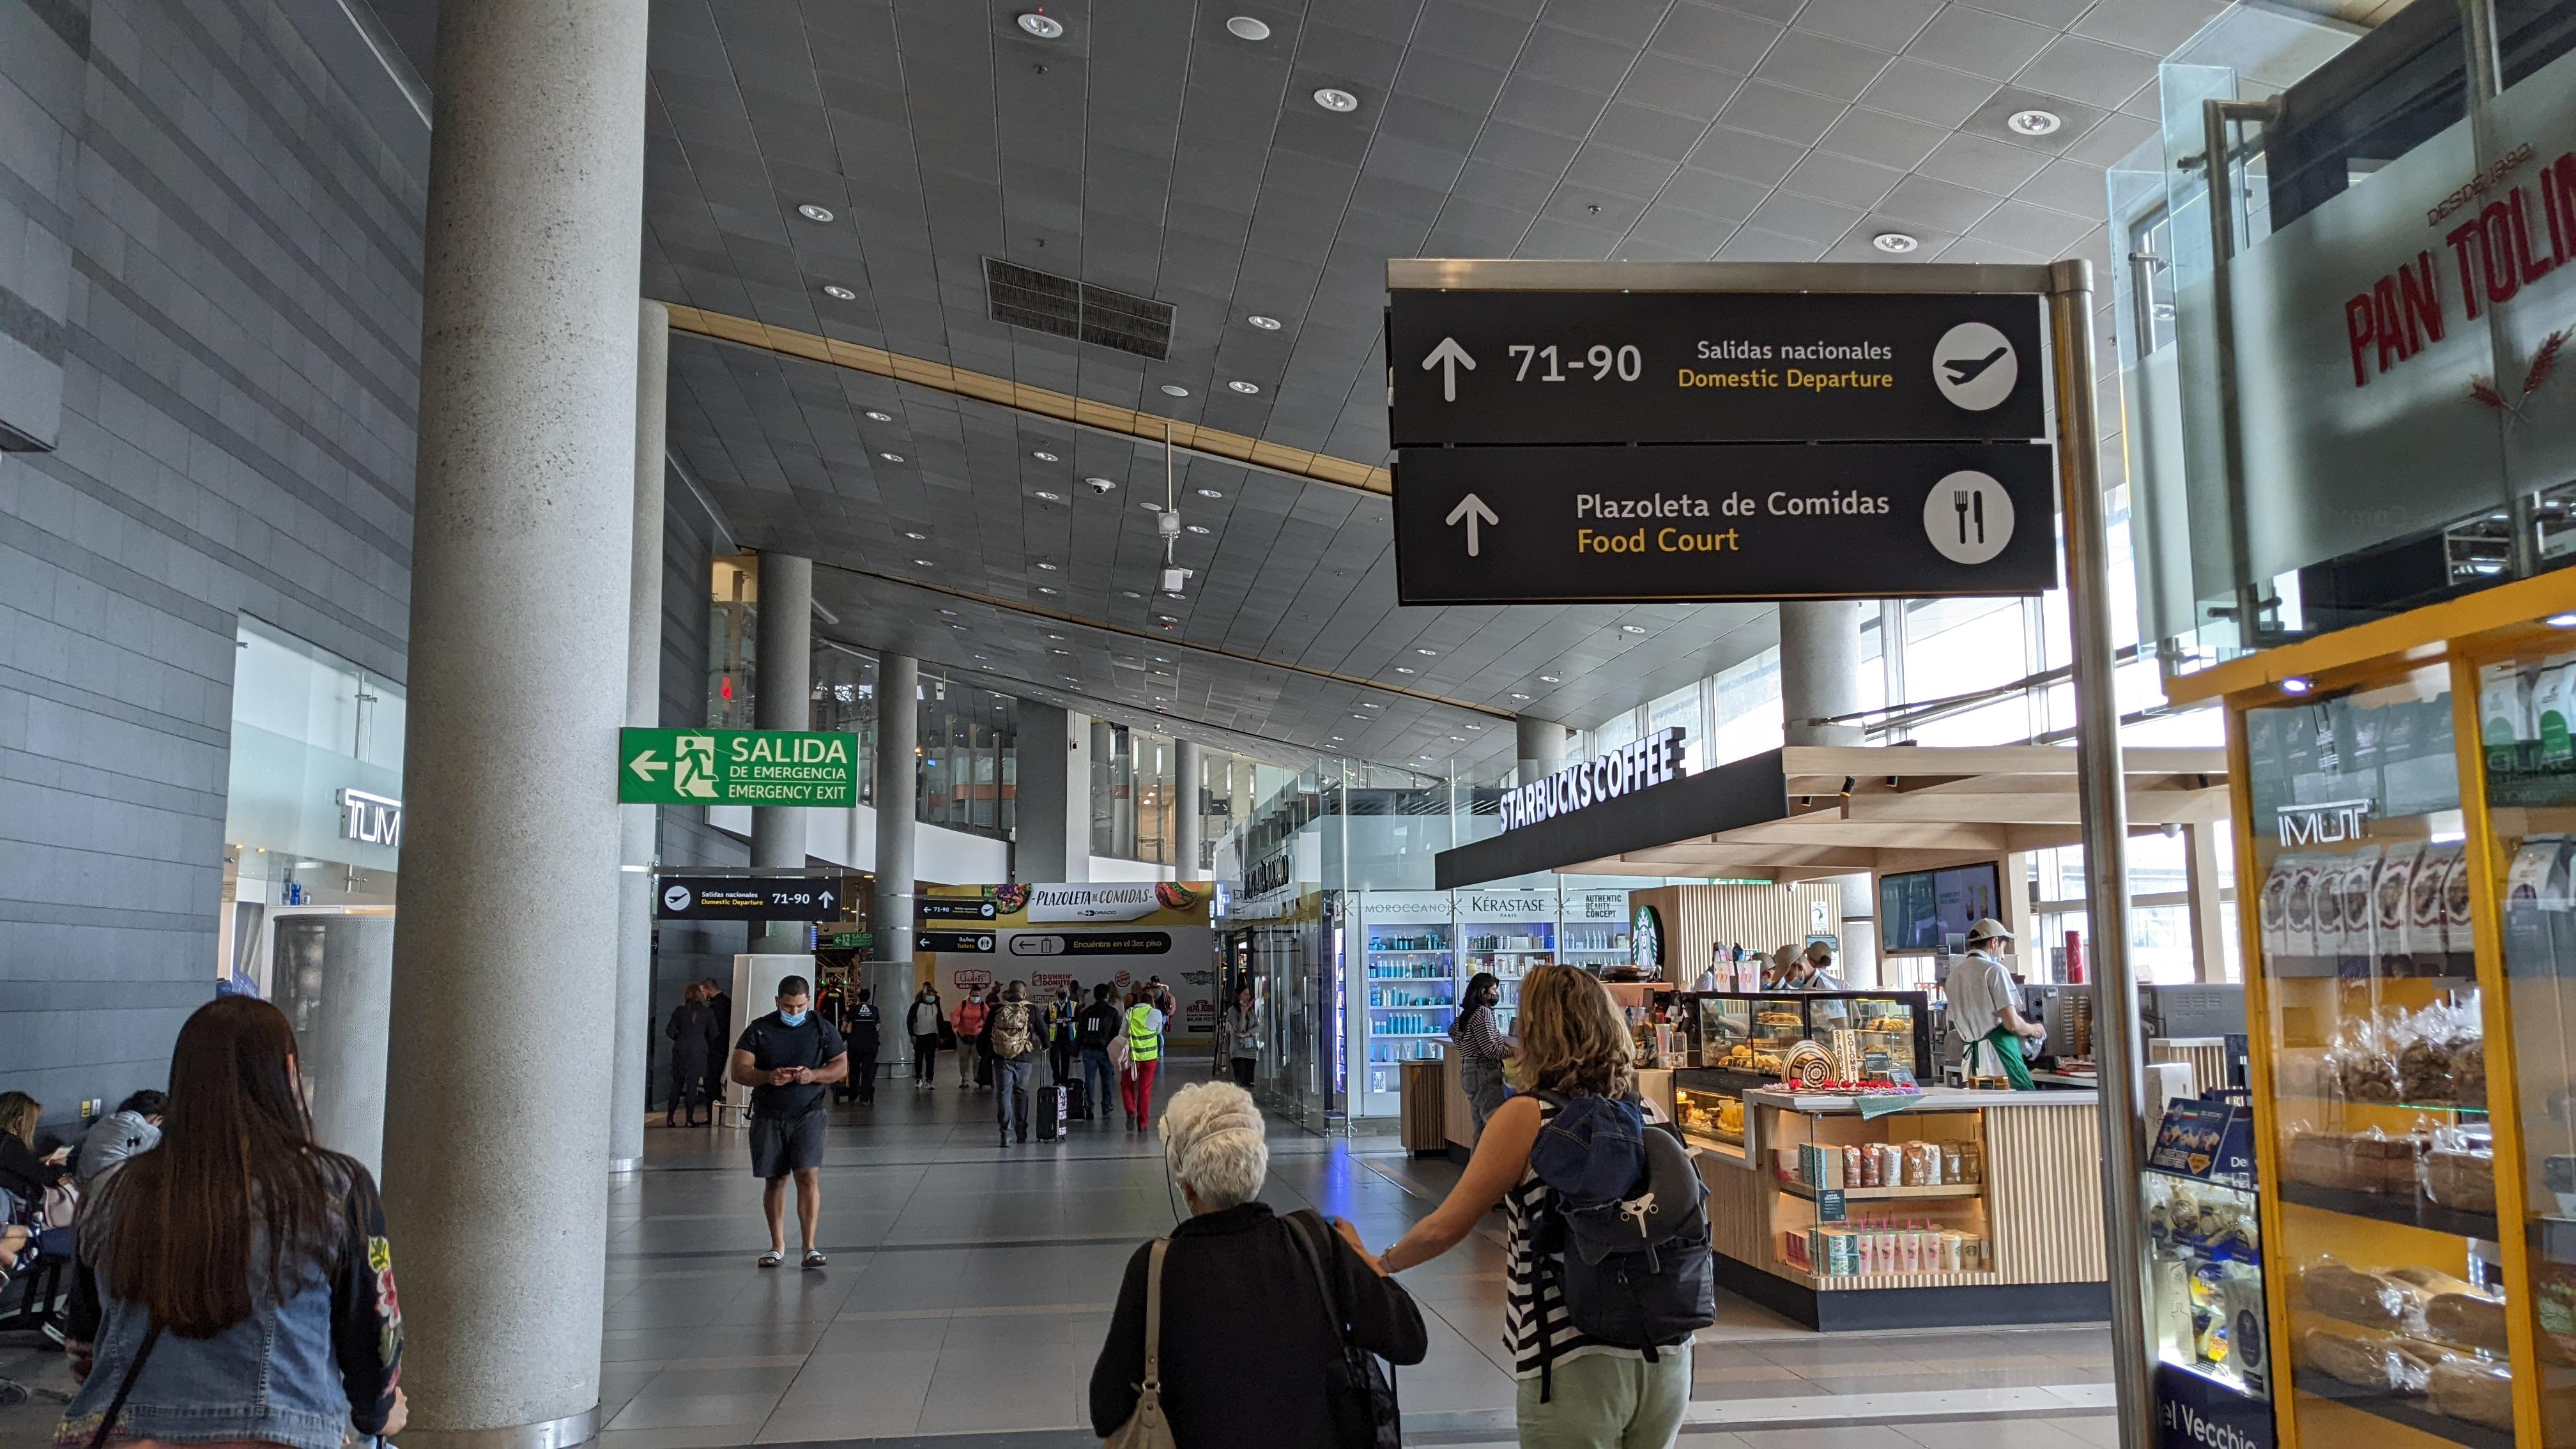airplane symbol: (1939, 341, 2012, 391), (669, 890, 688, 904), (984, 906, 993, 915)
bathrooms: (980, 938, 991, 948)
emergency exit: (672, 736, 722, 800), (842, 932, 851, 947)
emergency left arrow: (628, 748, 671, 782), (835, 936, 842, 945)
left arrow: (918, 936, 931, 948), (922, 906, 932, 913)
restaurants: (1948, 485, 1996, 548)
up arrow: (1419, 336, 1481, 405), (1444, 490, 1502, 559), (817, 890, 835, 909)
